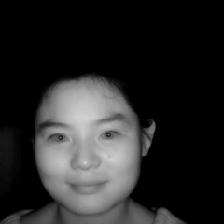happy: (22, 69, 163, 216)
